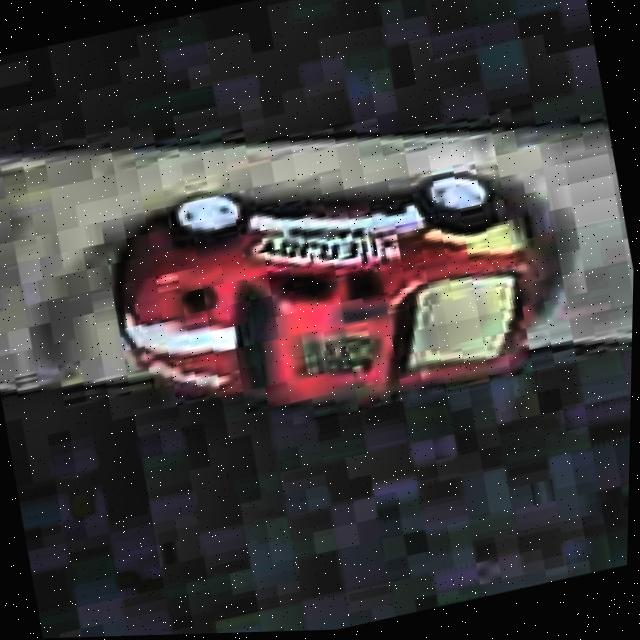car: (90, 116, 571, 462)
